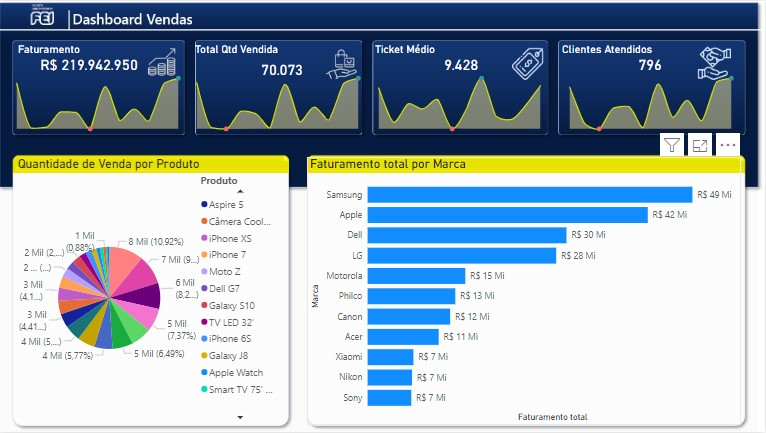

This screenshot's page, from the dashboard's own definition file:
{"tool":"powerbi","page":{"name":"Dashboard","canvas":[1280,720],"ordinal":0},"visuals":[{"type":"card","title":"Faturamento","fields":{"Values":["Medidas.Faturamento total"]},"box":[28.1,70.3,246.8,51.5],"z":0},{"type":"card","title":"Total Qtd Vendida","fields":{"Values":["Medidas.Total Qtd Vendas"]},"box":[323.3,70.3,299.9,65.6],"z":1000},{"type":"card","title":"Ticket Médio","fields":{"Values":["Medidas.Ticket Medio"]},"box":[623.2,70.3,296.7,51.5],"z":2000},{"type":"card","title":"Clientes Atendidos","fields":{"Values":["Medidas.Qtd Clientes"]},"box":[935.5,70.3,303,51.5],"z":3000},{"type":"barChart","fields":{"Y":["Medidas.Faturamento total"],"Category":["Cadastro de Produtos.Marca"]},"box":[515.4,259.3,723.1,446.7],"z":4000},{"type":"PBI_CV_25997FEB_F466_44FA_B562_AC4063283C4C","fields":{"axis":["Calendario.Mês Abreviado"],"measure":["Medidas.Faturamento total"]},"box":[14.1,110.9,309.2,112.5],"z":6000},{"type":"PBI_CV_25997FEB_F466_44FA_B562_AC4063283C4C","fields":{"axis":["Calendario.Mês Abreviado"],"measure":["Medidas.Qtd Clientes"]},"box":[935.5,110.9,309.2,112.5],"z":7000},{"type":"PBI_CV_25997FEB_F466_44FA_B562_AC4063283C4C","fields":{"axis":["Calendario.Mês Abreviado"],"measure":["Medidas.Total Qtd Vendas"]},"box":[313.9,110.9,309.2,112.5],"z":8000},{"type":"PBI_CV_25997FEB_F466_44FA_B562_AC4063283C4C","fields":{"axis":["Calendario.Mês Abreviado"],"measure":["Medidas.Ticket Medio"]},"box":[616.9,110.9,309.2,112.5],"z":9000},{"type":"image","box":[48.4,0,51.5,45.3],"z":10000},{"type":"pieChart","title":"Quantidade de Venda por Produto","fields":{"Category":["Cadastro de Produtos.Produto"],"Y":["Sum(Vendas.Qtd Vendida)"]},"box":[28.3,260,445,446.7],"z":10001}]}

Visuals, with their boxes in screenshot pixels (x1, y1, x2, y2), scaled from the page's 1280x720 canvas onto the 766x433 screenshot:
"Faturamento" card: (x1=17, y1=42, x2=165, y2=73)
"Total Qtd Vendida" card: (x1=193, y1=42, x2=373, y2=82)
"Ticket Médio" card: (x1=373, y1=42, x2=551, y2=73)
"Clientes Atendidos" card: (x1=560, y1=42, x2=741, y2=73)
barChart - Medidas.Faturamento total x Cadastro de Produtos.Marca: (x1=308, y1=156, x2=741, y2=425)
PBI_CV_25997FEB_F466_44FA_B562_AC4063283C4C - Calendario.Mês Abreviado x Medidas.Faturamento total: (x1=8, y1=67, x2=193, y2=134)
PBI_CV_25997FEB_F466_44FA_B562_AC4063283C4C - Calendario.Mês Abreviado x Medidas.Qtd Clientes: (x1=560, y1=67, x2=745, y2=134)
PBI_CV_25997FEB_F466_44FA_B562_AC4063283C4C - Calendario.Mês Abreviado x Medidas.Total Qtd Vendas: (x1=188, y1=67, x2=373, y2=134)
PBI_CV_25997FEB_F466_44FA_B562_AC4063283C4C - Calendario.Mês Abreviado x Medidas.Ticket Medio: (x1=369, y1=67, x2=554, y2=134)
image: (x1=29, y1=0, x2=60, y2=27)
"Quantidade de Venda por Produto" pieChart: (x1=17, y1=156, x2=283, y2=425)
